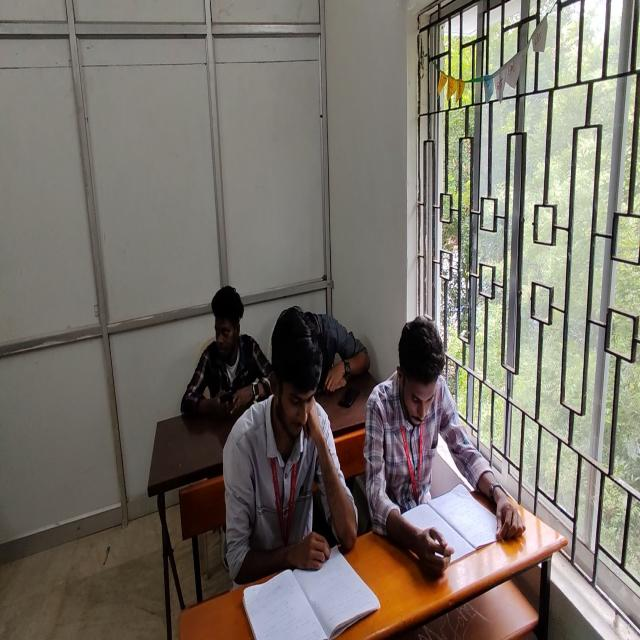reading: (220, 302, 356, 592), (382, 315, 518, 571)
sleeping: (274, 307, 367, 398)
using_mobile: (180, 284, 272, 422)
